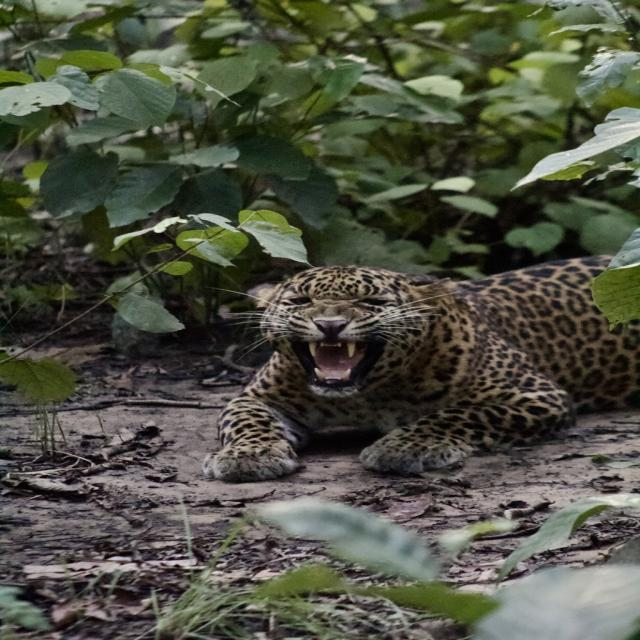Leopard: (208, 253, 628, 478)
